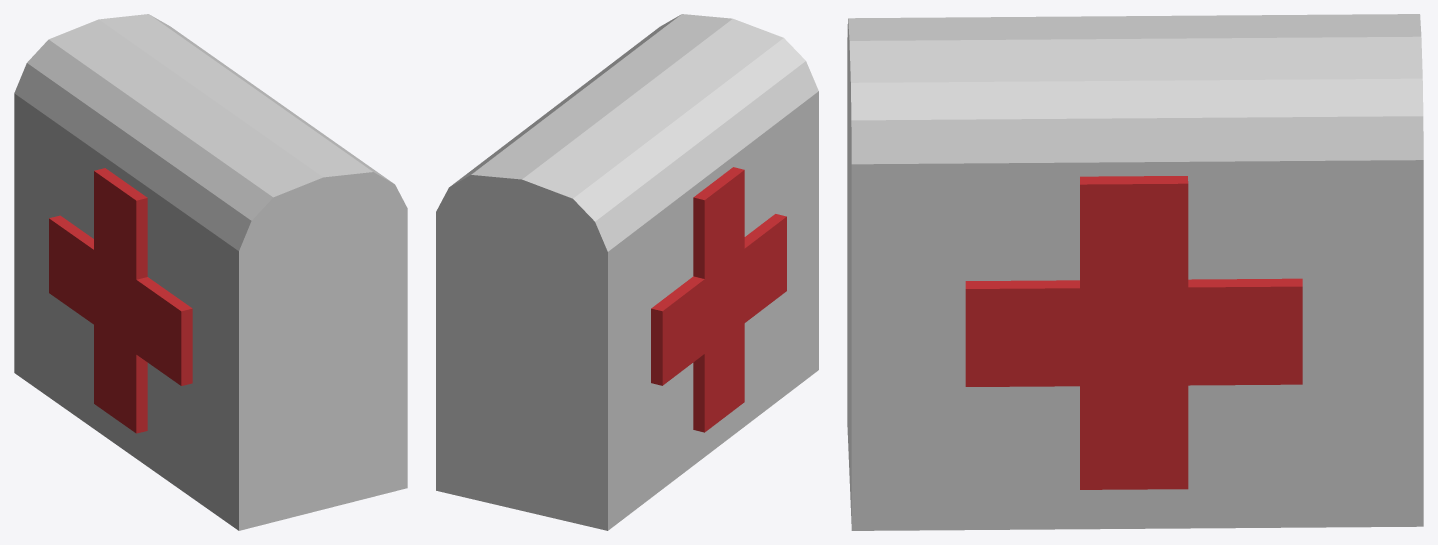
Rendered from healthpack.fbx.
3 renders of one model, left to right at view 1: azimuth 30°, elevation 25°; view 2: azimuth 150°, elevation 25°; view 3: azimuth 270°, elevation 25°, orthographic. The views are drawn at different scales.
Visible parts, largest first — view 1: HealthPack, AidSymbol; view 2: HealthPack, AidSymbol; view 3: HealthPack, AidSymbol.
Part boxes in pixels (x1,y1,x2,y2): HealthPack: (14, 14, 407, 530); AidSymbol: (49, 168, 192, 433); HealthPack: (436, 14, 818, 530); AidSymbol: (651, 167, 786, 432); HealthPack: (847, 14, 1423, 530); AidSymbol: (965, 176, 1302, 489).
Bounding box in the file's own units: 20.98 × 33.6 × 40.31.
